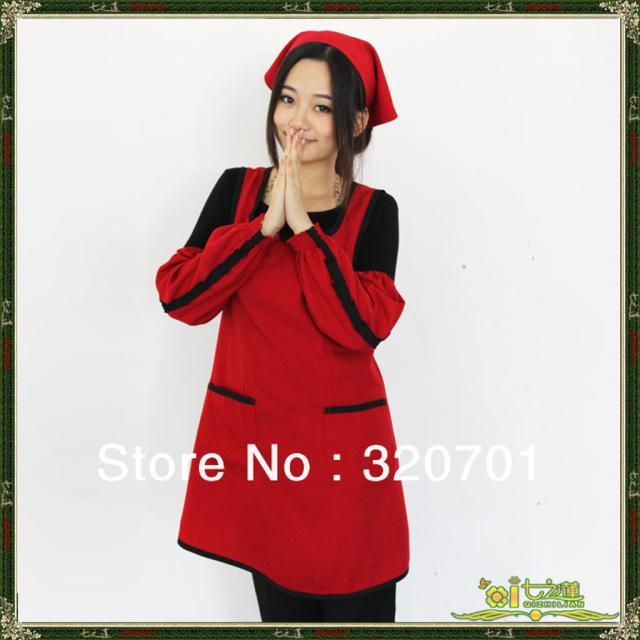nomask: (272, 61, 356, 158)
